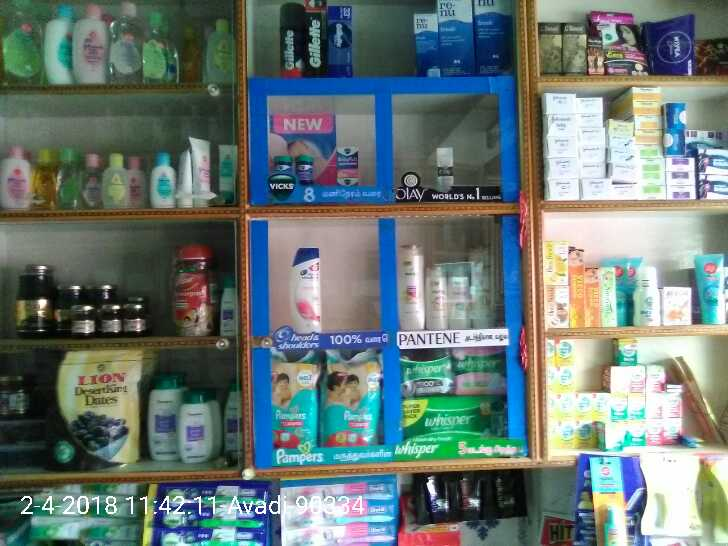vicks: (274, 156, 317, 182), (338, 143, 358, 185)
